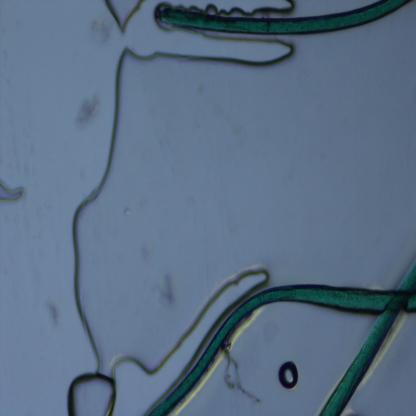Air bubble: (60, 39, 144, 416), (128, 32, 294, 68), (102, 0, 148, 36), (0, 178, 25, 207), (278, 358, 300, 390)
Background material: (75, 86, 102, 130), (144, 277, 184, 306), (89, 14, 115, 44), (44, 298, 60, 326)
Microfibre: (146, 282, 416, 414), (319, 260, 416, 415), (153, 0, 411, 36)
